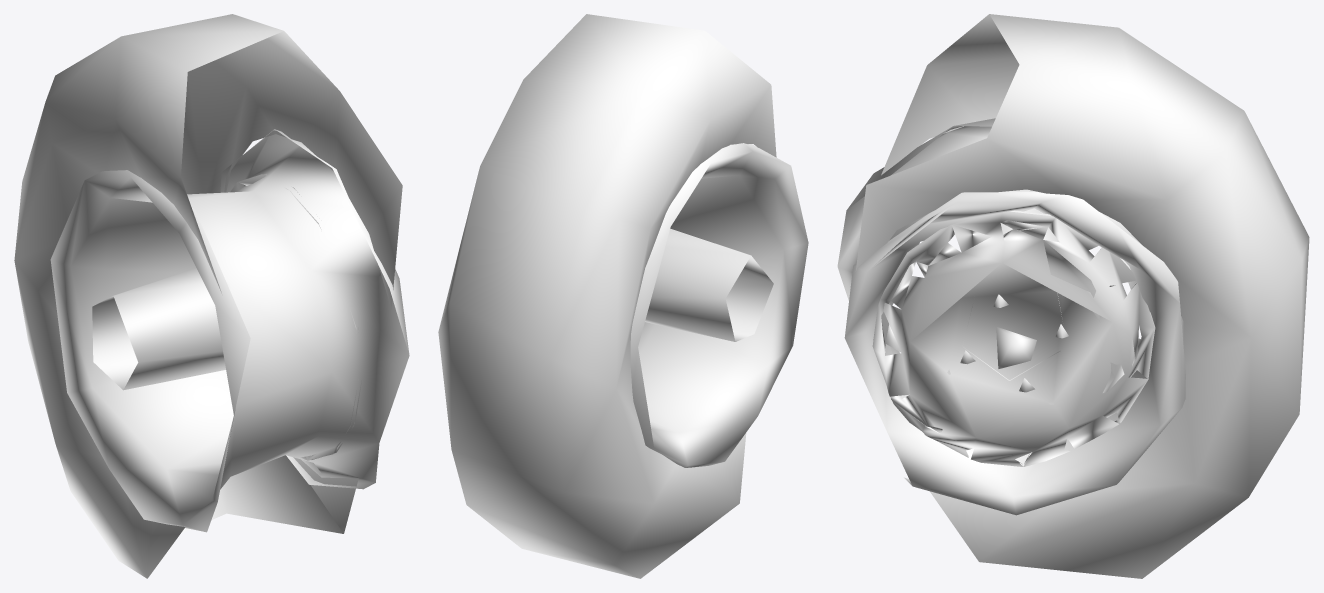
The picture shows the model from 3 angles, left to right: view 1: azimuth 30°, elevation 25°; view 2: azimuth 150°, elevation 25°; view 3: azimuth 270°, elevation 25°; orthographic projection. The views are drawn at different scales.
Size of the model in its own units: 0.2524 by 0.6061 by 0.4966.
1 material, 1 textured.
